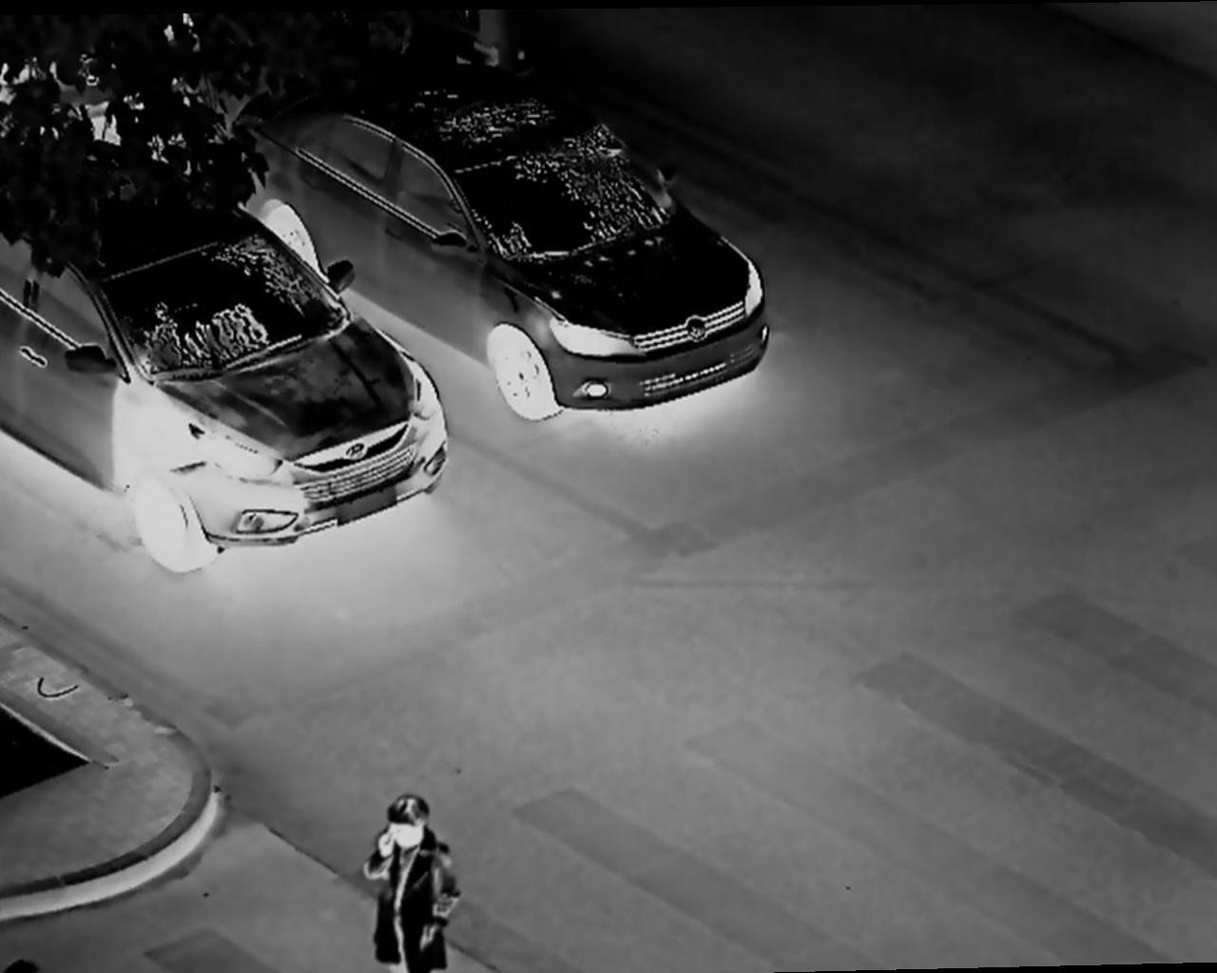person: (360, 791, 463, 973)
